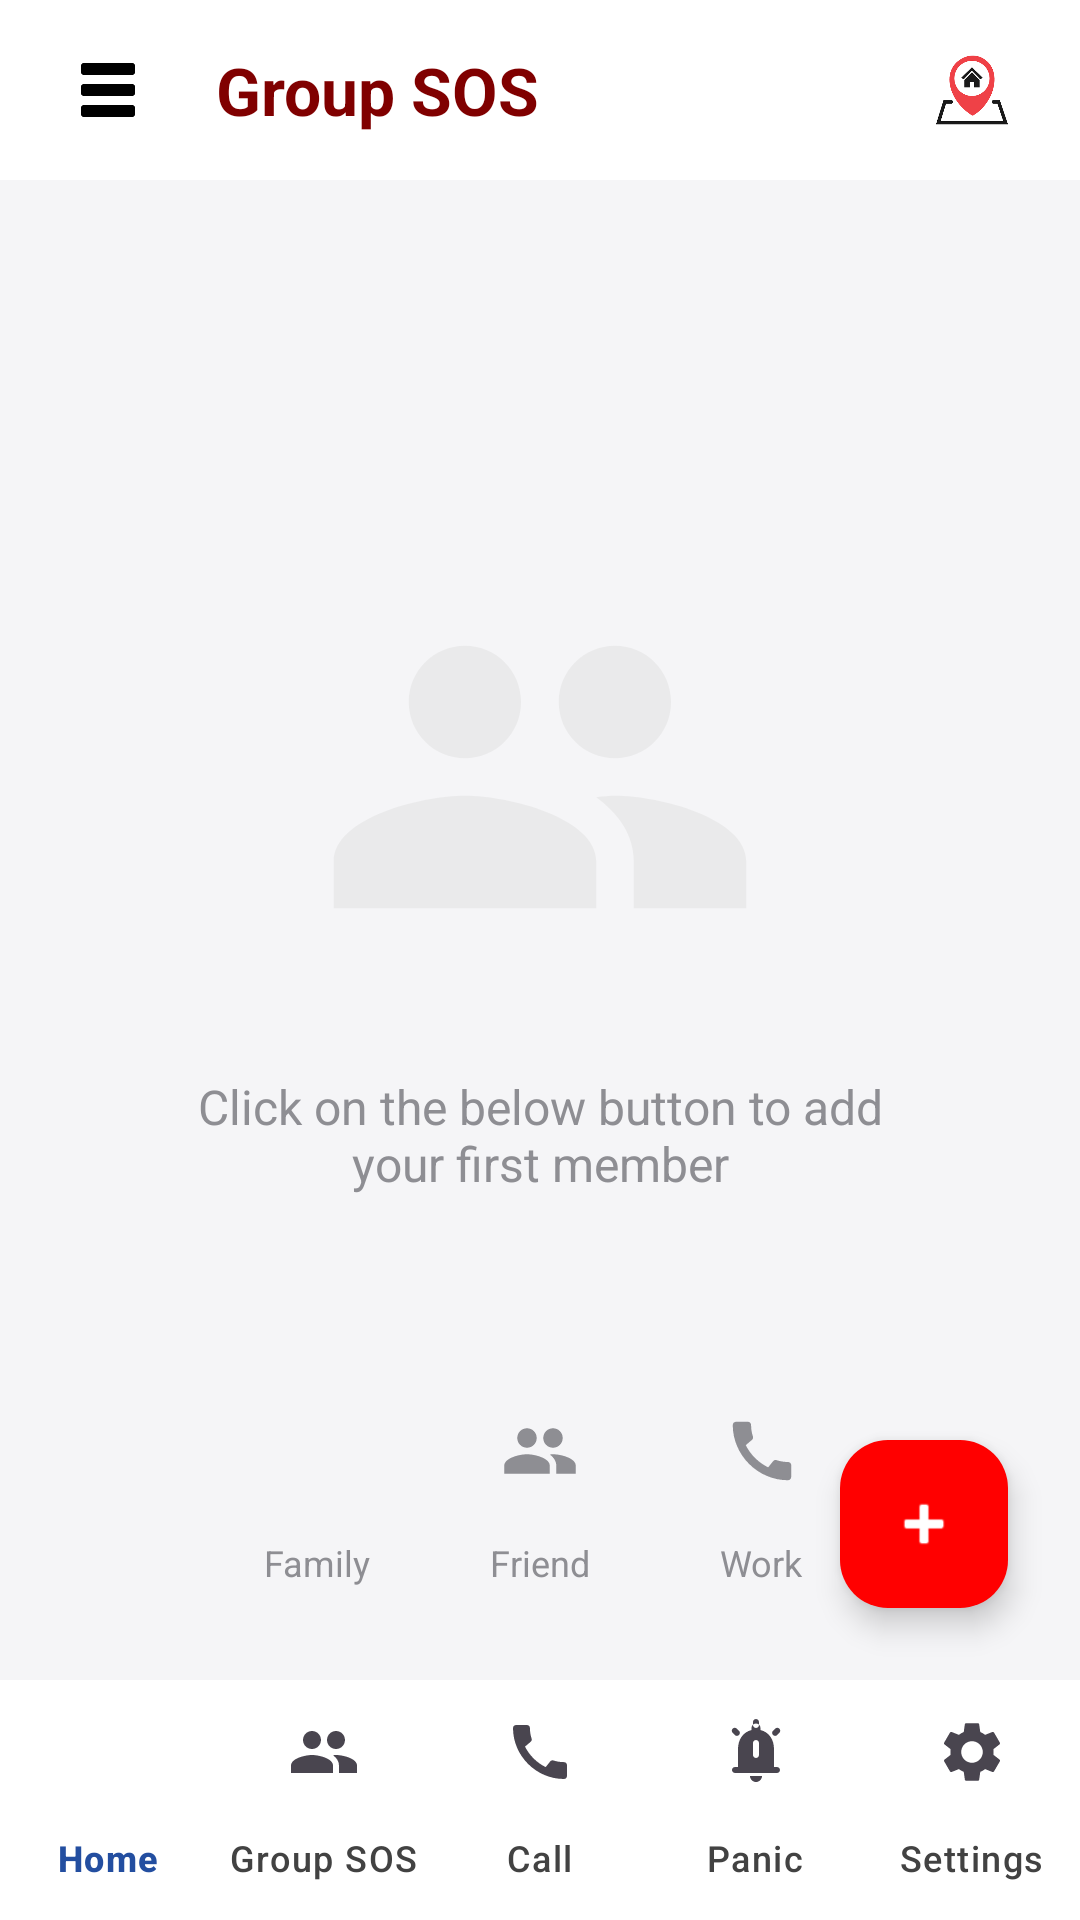

Locate icon controls on the screen. Image size 1080 × 1920, boxes as (x1, y1, x2, y2).
add: (840, 1440, 1008, 1608)
lines: (81, 63, 135, 117)
loc: (936, 55, 1008, 125)
